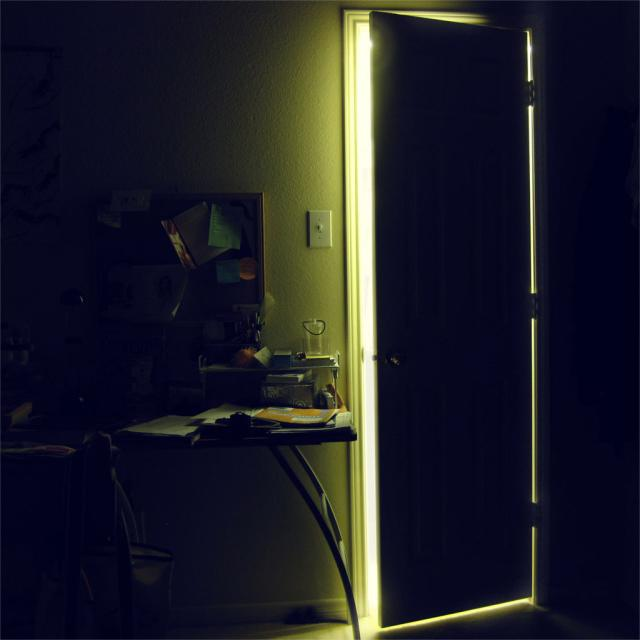Table: (104, 379, 376, 640)
